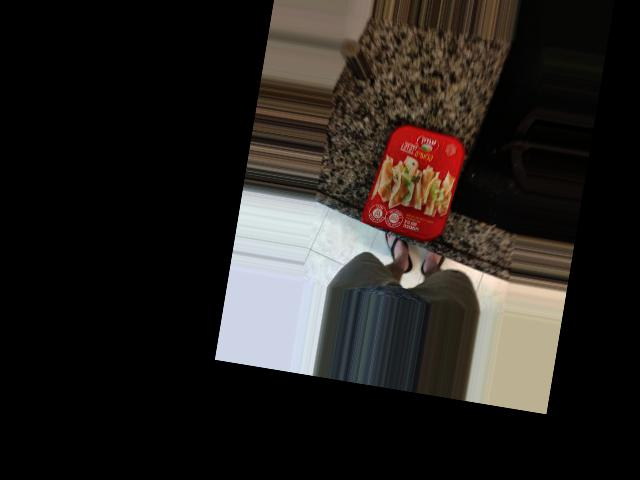cheese: (380, 82, 488, 203)
